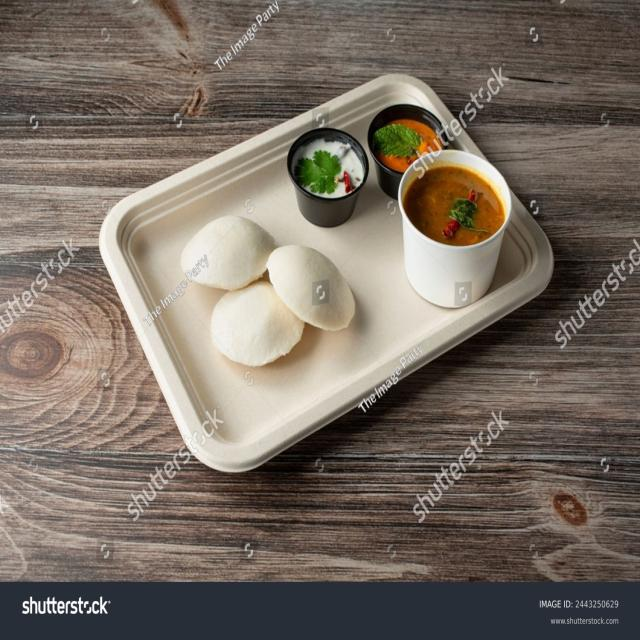IDLI: (267, 241, 361, 331), (215, 290, 303, 371), (188, 222, 274, 293)
